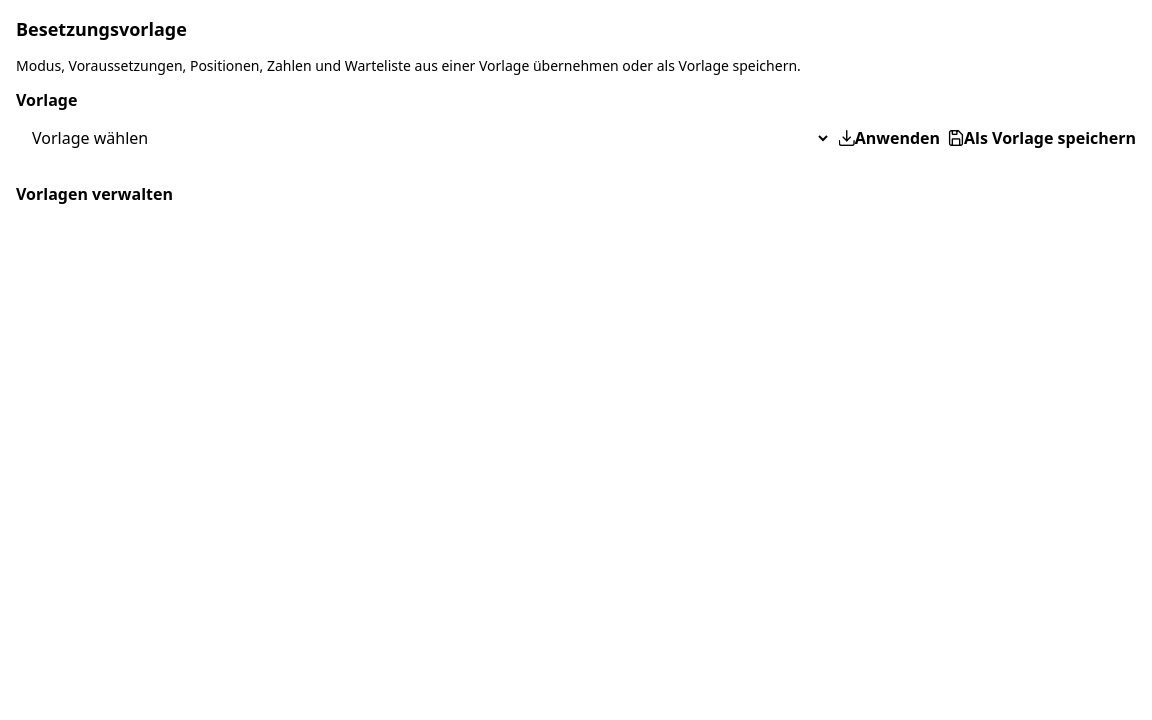
Test: StaffingTemplatePanel › saves the current service as a department template (organisation locked without right)
Click the button "Als Vorlage speichern" at (1042, 138), box [948,116,1136,160]
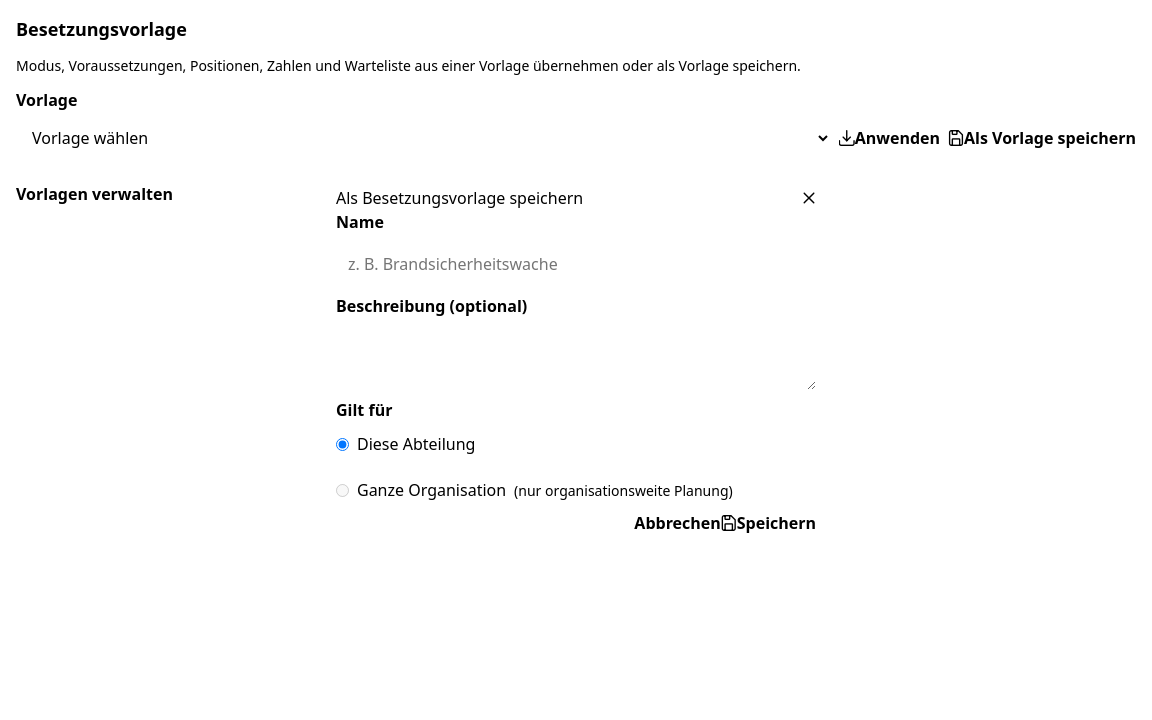
Type "Neu" into the field with id "tpl-name" at (576, 264), box [336,242,816,286]
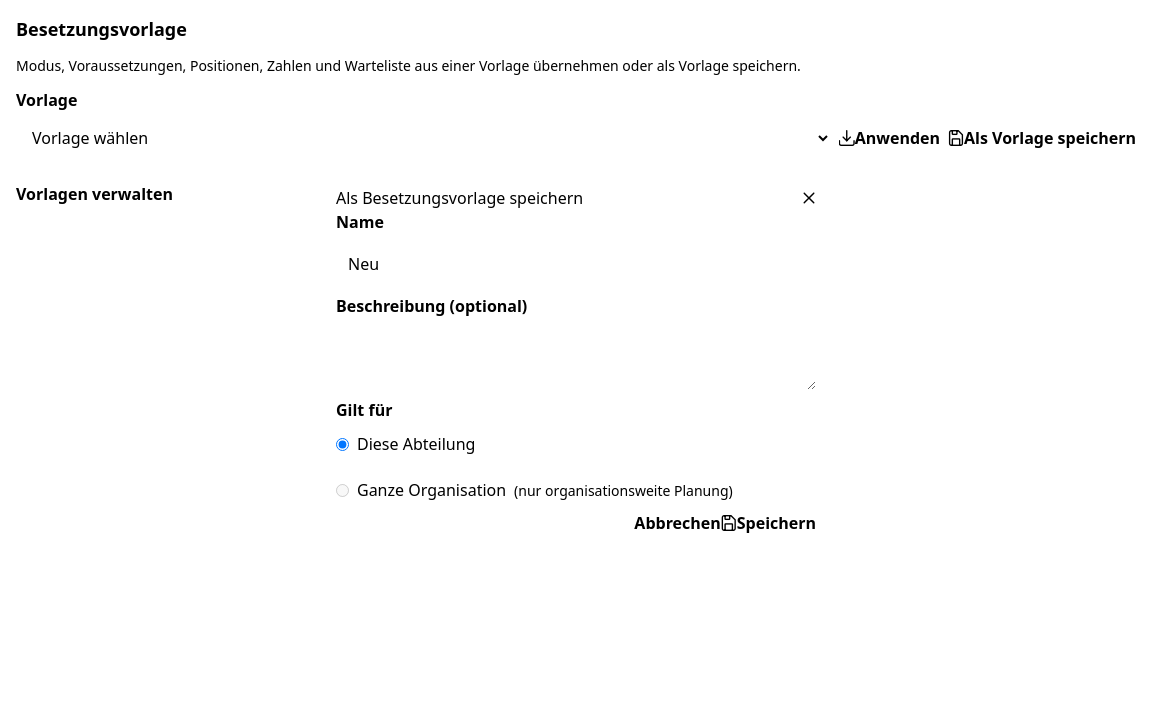
expect the radio button labelled "Ganze Organisation (nur organisationsweite Planung)" is disabled: met, box [336,484,349,496]
Click the button "Speichern" at (768, 523), box [721,512,816,534]
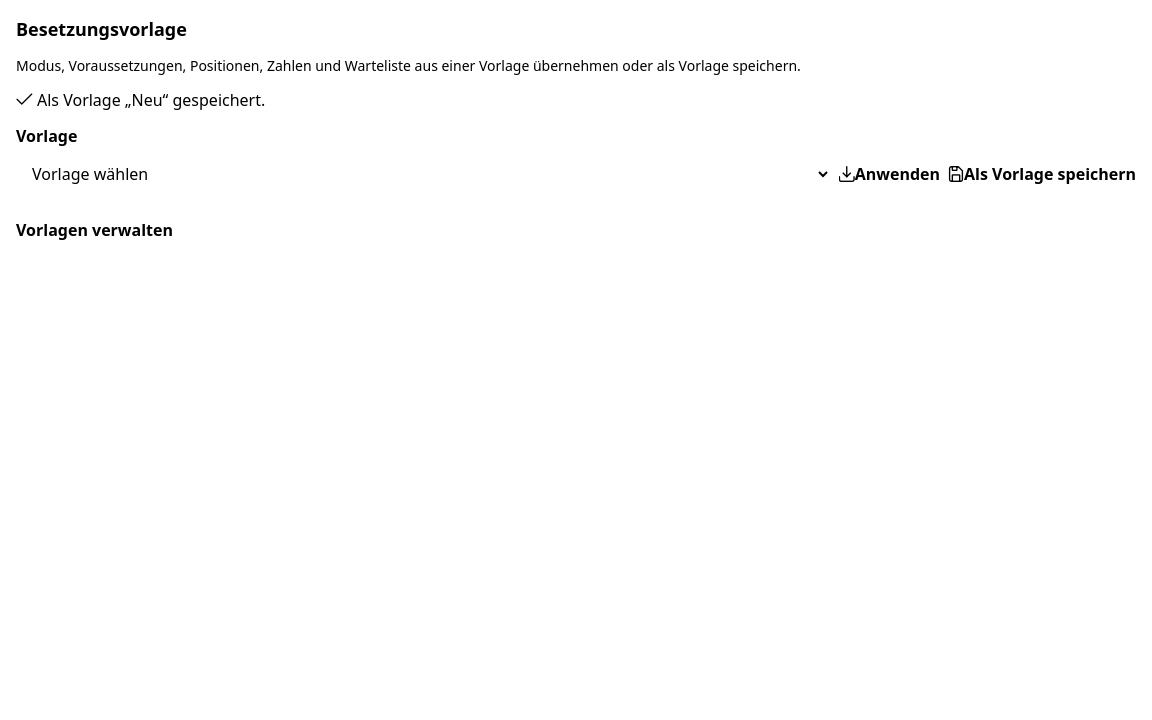
expect the text "Als Vorlage „Neu“ gespeichert" is shown: met, box [37,89,265,111]
